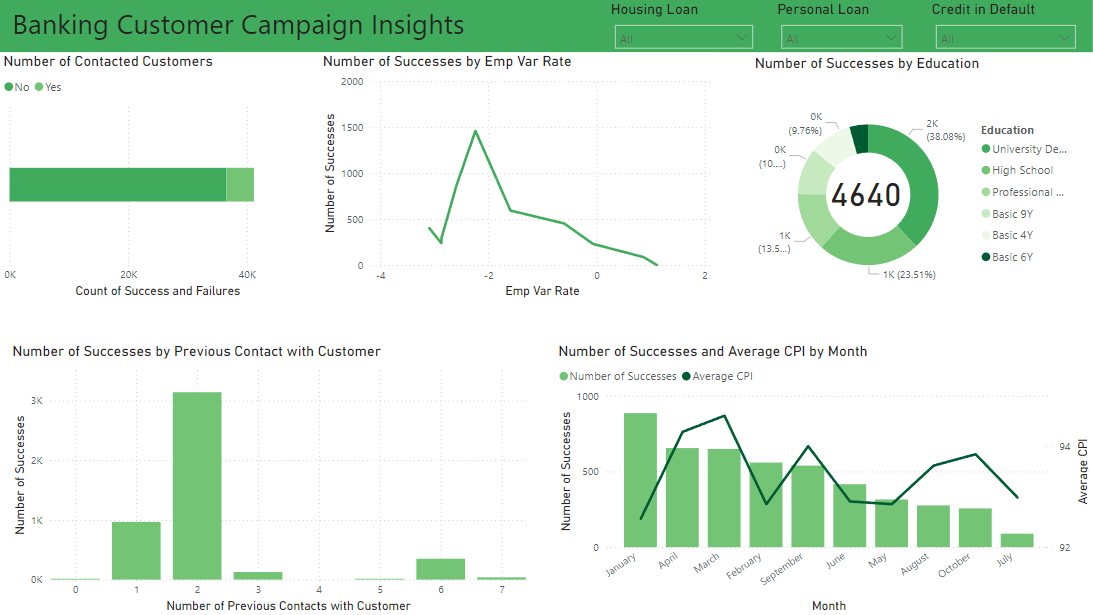

This screenshot's page, from the dashboard's own definition file:
{"tool":"powerbi","page":{"name":"Page 1","canvas":[1280,720],"ordinal":0},"visuals":[{"type":"shape","box":[0,0,1279.5,61],"z":0},{"type":"textbox","box":[10.9,0,570.9,61],"z":1000},{"type":"donutChart","fields":{"Y":["BankingFull.Number of Successes"],"Category":["BankingFull.Education"]},"box":[879.2,63.1,388.6,309.3],"z":2000},{"type":"card","fields":{"Values":["BankingFull.Number of Successes"]},"box":[948.9,173.3,129.5,98.8],"z":3000},{"type":"lineChart","fields":{"Category":["BankingFull.Emp Var Rate"],"Y":["BankingFull.Number of Successes"]},"box":[374,61.5,466.3,291.5],"z":4000},{"type":"columnChart","title":"Number of Successes by Previous Contact with Customer","fields":{"Y":["BankingFull.Number of Successes"],"Category":["BankingFull.Previous"]},"box":[11.3,399.9,610.4,320.6],"z":5000},{"type":"slicer","title":"Personal Loan","fields":{"Values":["BankingFull.Loan"]},"box":[905.6,0,161.1,61],"z":6000},{"type":"slicer","title":"Housing Loan","fields":{"Values":["BankingFull.Housing"]},"box":[710.1,0,181.4,61],"z":7000},{"type":"slicer","title":"Credit in Default","fields":{"Values":["BankingFull.Default"]},"box":[1085.5,0,183,61],"z":8000},{"type":"lineStackedColumnComboChart","fields":{"Category":["BankingFull.Month"],"Y":["BankingFull.Number of Successes"],"Y2":["BankingFull.Average CPI"]},"box":[649.3,399.9,629.9,320.6],"z":9000},{"type":"barChart","title":"Number of Contacted Customers","fields":{"Y":["CountNonNull(BankingFull.Y/N)"],"Series":["BankingFull.Y/N"]},"box":[0,62,374,291],"z":10000}]}

Visuals, with their boxes in screenshot pixels (x1, y1, x2, y2), scaled from the page's 1280x720 canvas onto the 1093x615 screenshot:
shape: {"left": 0, "top": 0, "right": 1092, "bottom": 52}
textbox: {"left": 9, "top": 0, "right": 497, "bottom": 52}
donutChart - BankingFull.Number of Successes x BankingFull.Education: {"left": 751, "top": 54, "right": 1083, "bottom": 318}
card - BankingFull.Number of Successes: {"left": 810, "top": 148, "right": 921, "bottom": 232}
lineChart - BankingFull.Emp Var Rate x BankingFull.Number of Successes: {"left": 319, "top": 53, "right": 718, "bottom": 302}
"Number of Successes by Previous Contact with Customer" columnChart: {"left": 10, "top": 342, "right": 531, "bottom": 614}
"Personal Loan" slicer: {"left": 773, "top": 0, "right": 911, "bottom": 52}
"Housing Loan" slicer: {"left": 606, "top": 0, "right": 761, "bottom": 52}
"Credit in Default" slicer: {"left": 927, "top": 0, "right": 1083, "bottom": 52}
lineStackedColumnComboChart - BankingFull.Month x BankingFull.Number of Successes: {"left": 554, "top": 342, "right": 1092, "bottom": 614}
"Number of Contacted Customers" barChart: {"left": 0, "top": 53, "right": 319, "bottom": 302}
